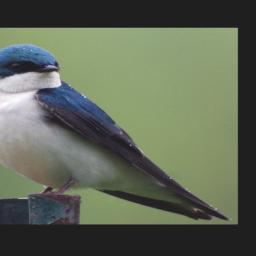Swallow: (0, 43, 231, 223)
